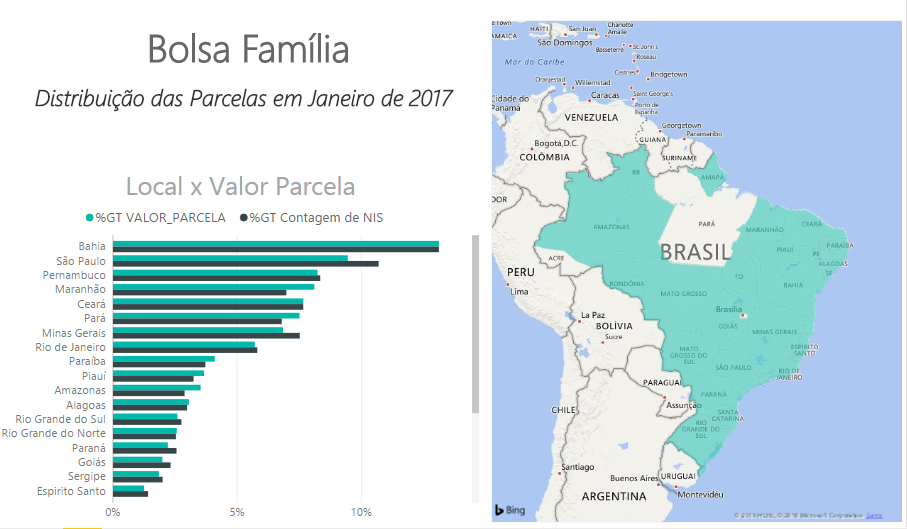

What the dashboard file says about the page in this screenshot:
{"tool":"powerbi","page":{"name":"Introdução","canvas":[1280,720],"ordinal":0},"visuals":[{"type":"clusteredBarChart","fields":{"Category":["Fato_Bolsa_Familia.REGIAO","Fato_Bolsa_Familia.Estado","Fato_Bolsa_Familia.MUNICIPIO"],"Y":["Fato_Bolsa_Familia.VALOR_PARCELA","Fato_Bolsa_Familia.NIS"]},"box":[0,212.8,683.4,507.2],"z":1},{"type":"textbox","box":[9.9,1.4,672.1,84.5],"z":3},{"type":"textbox","box":[0,87.4,691.8,83.1],"z":4},{"type":"filledMap","fields":{"Category":["Fato_Bolsa_Familia.Estado"]},"box":[690.4,1.4,587.6,717.2],"z":6}]}

Visuals, with their boxes on the page's 1280x720 design canvas (x1, y1, x2, y2). These are canvas units, not pixel positions in the 907x529 screenshot, which may show the page scaled, cropped or inside an application window:
clusteredBarChart - Fato_Bolsa_Familia.REGIAO x Fato_Bolsa_Familia.Estado: [0, 213, 683, 720]
textbox: [10, 1, 682, 86]
textbox: [0, 87, 692, 170]
filledMap - Fato_Bolsa_Familia.Estado: [690, 1, 1278, 719]
